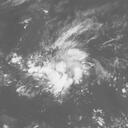cyclone: (40, 47, 93, 98)
